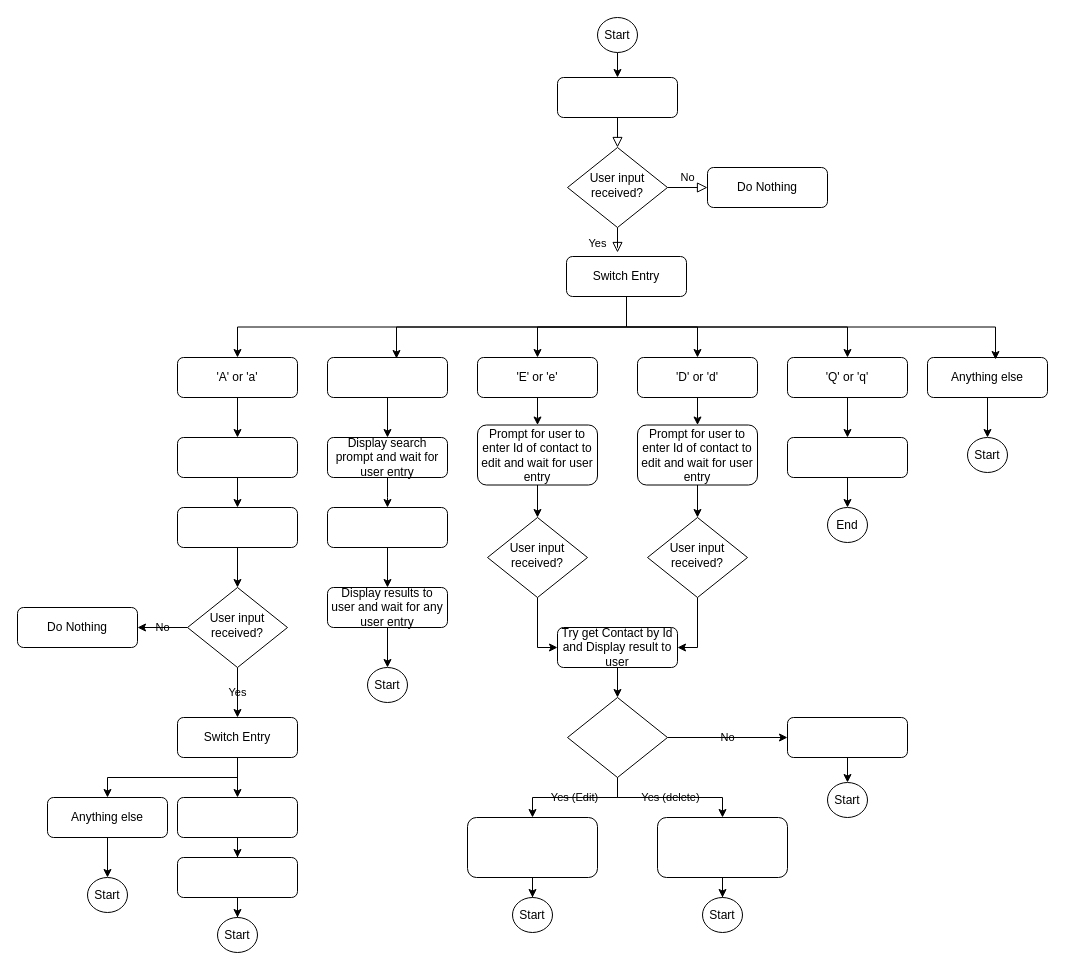
Some shapes in this 1065 by 970 pixel diagram are drawn without their labels. The box of each missing label's shape, as (x1, y1, x2, y2) in pixels:
'S' or 's': (326, 356, 448, 398)
'Y' or 'y': (176, 796, 298, 838)
Contact found?: (566, 696, 668, 778)
Delete Contact: (656, 816, 788, 878)
Display feedback to user: (786, 716, 908, 758)
Display formatted contact to user and wait for user entry: (176, 506, 298, 548)
Prompt for each Contact field: (176, 436, 298, 478)
Prompt for each Contact field. Display updated Contact to user: (466, 816, 598, 878)
Save new contact: (176, 856, 298, 898)
Search Contacts for match on full name.: (326, 506, 448, 548)
Show bye message and quit program: (786, 436, 908, 478)
Show User Prompt: (556, 76, 678, 118)
